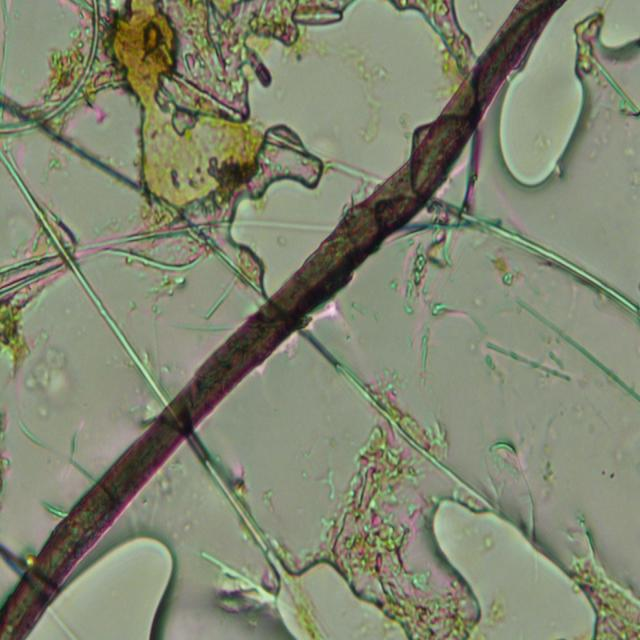Air bubble: (490, 0, 640, 190), (426, 492, 601, 640), (29, 525, 183, 639), (281, 564, 414, 640)
Background material: (99, 2, 359, 247), (322, 426, 464, 636), (209, 97, 378, 190), (280, 33, 386, 149), (573, 517, 640, 639), (388, 1, 478, 76), (388, 238, 446, 324), (21, 341, 85, 405), (485, 338, 573, 382), (122, 272, 186, 316), (572, 13, 610, 80), (0, 294, 31, 373), (483, 250, 521, 291), (0, 410, 12, 520), (485, 581, 511, 628), (0, 538, 26, 584), (542, 457, 560, 501), (415, 330, 429, 386)
Glass filter fibre: (0, 152, 169, 408), (304, 326, 486, 505), (434, 195, 638, 317), (509, 299, 640, 411), (189, 435, 286, 572), (0, 2, 100, 134), (10, 407, 92, 485), (196, 552, 274, 602), (588, 53, 638, 117), (95, 245, 211, 272), (201, 275, 239, 319), (38, 498, 72, 523), (484, 442, 518, 459)
Microfibre: (0, 1, 563, 638)
